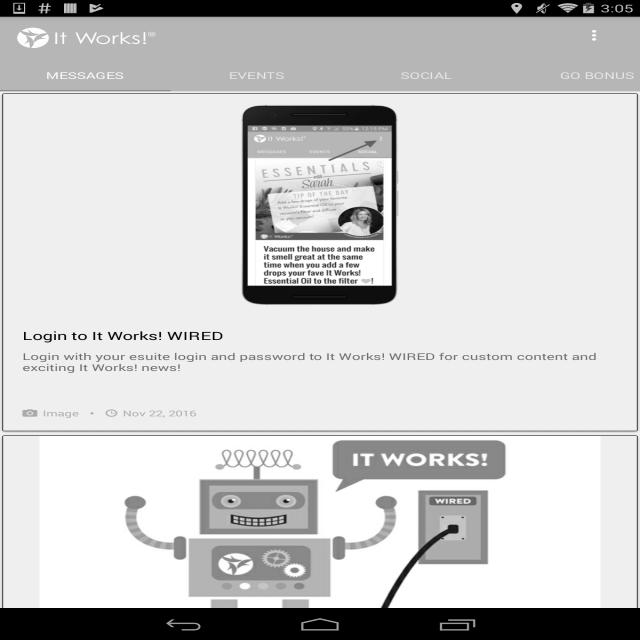Button: (3, 94, 637, 430), (3, 436, 637, 640)
ImageButton: (581, 28, 607, 44)
ImageView: (3, 94, 637, 316), (3, 436, 637, 640), (17, 27, 156, 49)
TextView: (22, 350, 618, 396), (22, 328, 228, 343), (46, 69, 124, 82), (560, 69, 634, 82), (105, 408, 196, 418), (228, 69, 284, 82), (401, 69, 452, 82), (22, 408, 79, 418), (90, 408, 94, 418)
